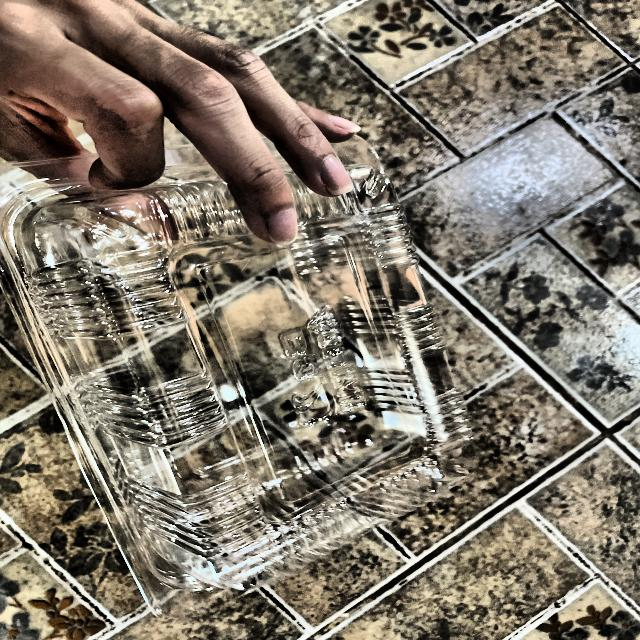plastic container: (1, 132, 470, 589)
